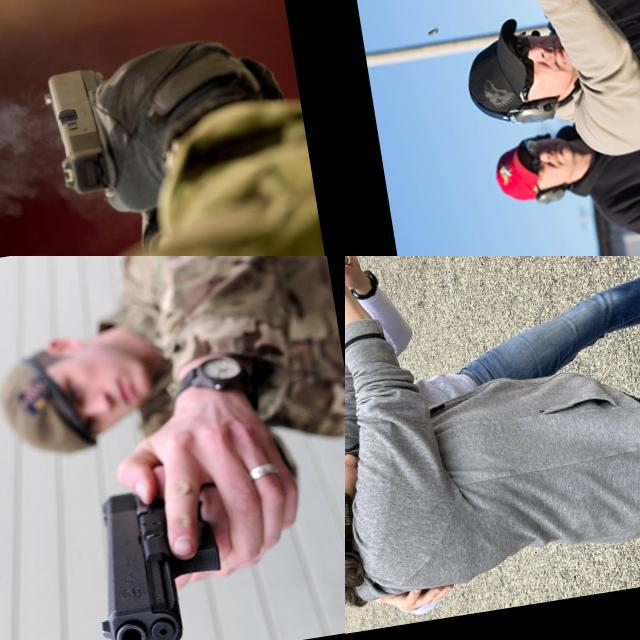handgun: (76, 466, 255, 640), (38, 59, 146, 200), (345, 256, 390, 306), (448, 0, 507, 36)
